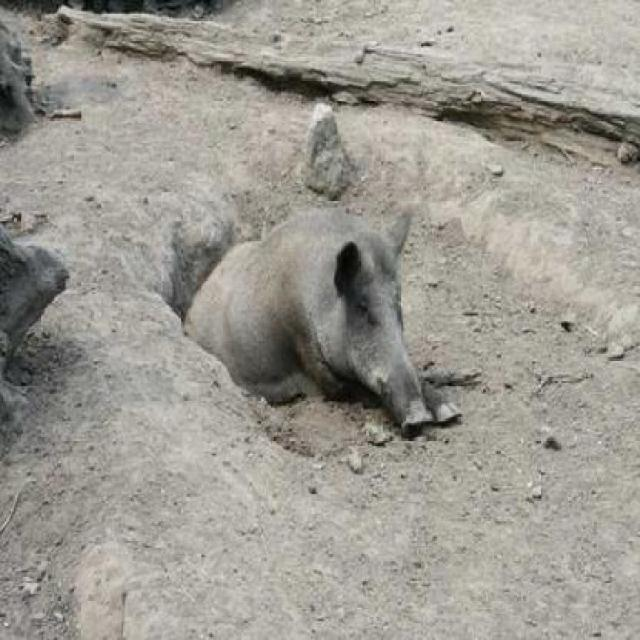Boar: (169, 166, 485, 489)
